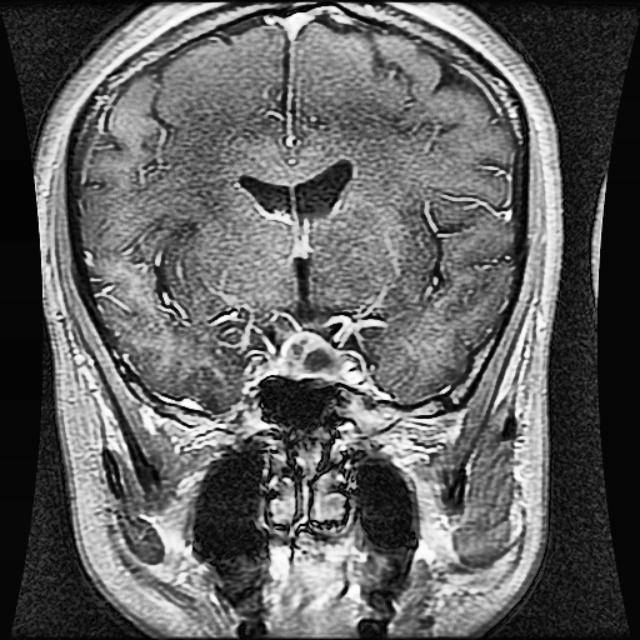Pituitary: (258, 332, 365, 382)
